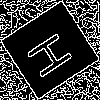H: (25, 25, 82, 81)
